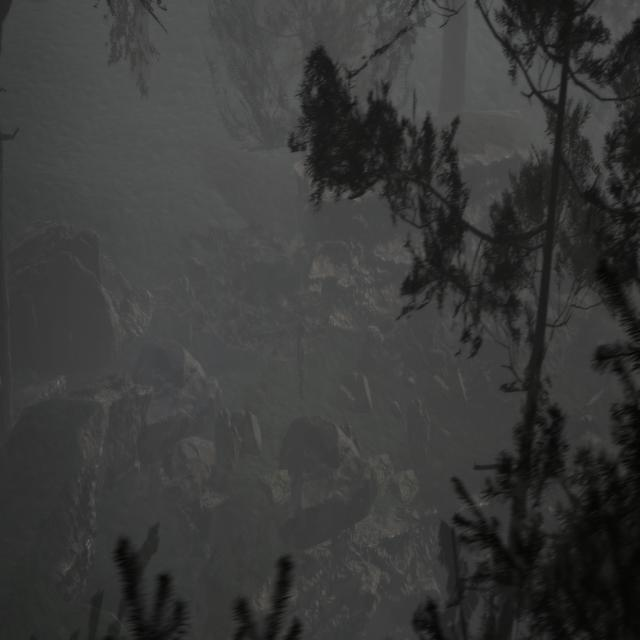Human: (296, 310, 315, 412)
